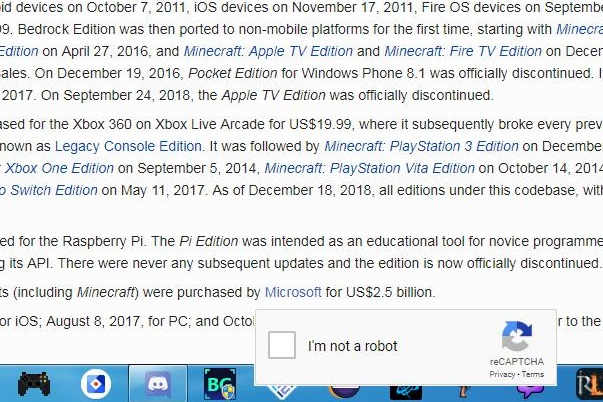captcha: (268, 331, 398, 359)
